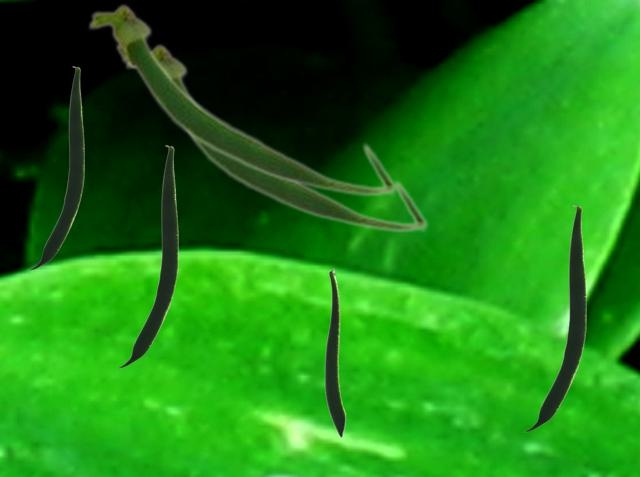french_bean: (86, 1, 397, 197), (123, 41, 428, 233), (523, 205, 585, 431), (117, 145, 177, 367), (28, 66, 83, 269), (324, 268, 345, 437)
